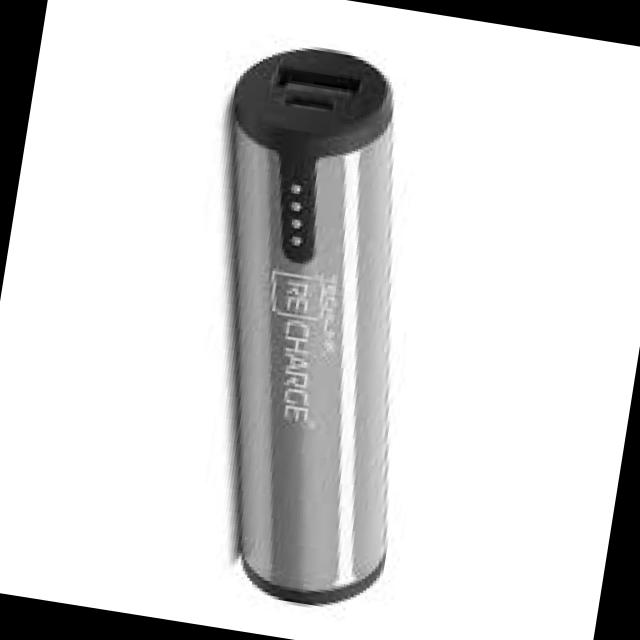portable-charger: (148, 36, 465, 618)
